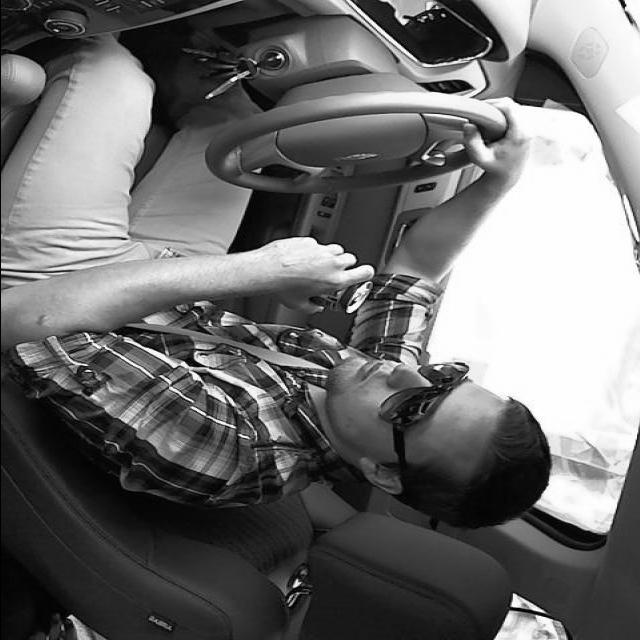drinking: (276, 256, 374, 314)
